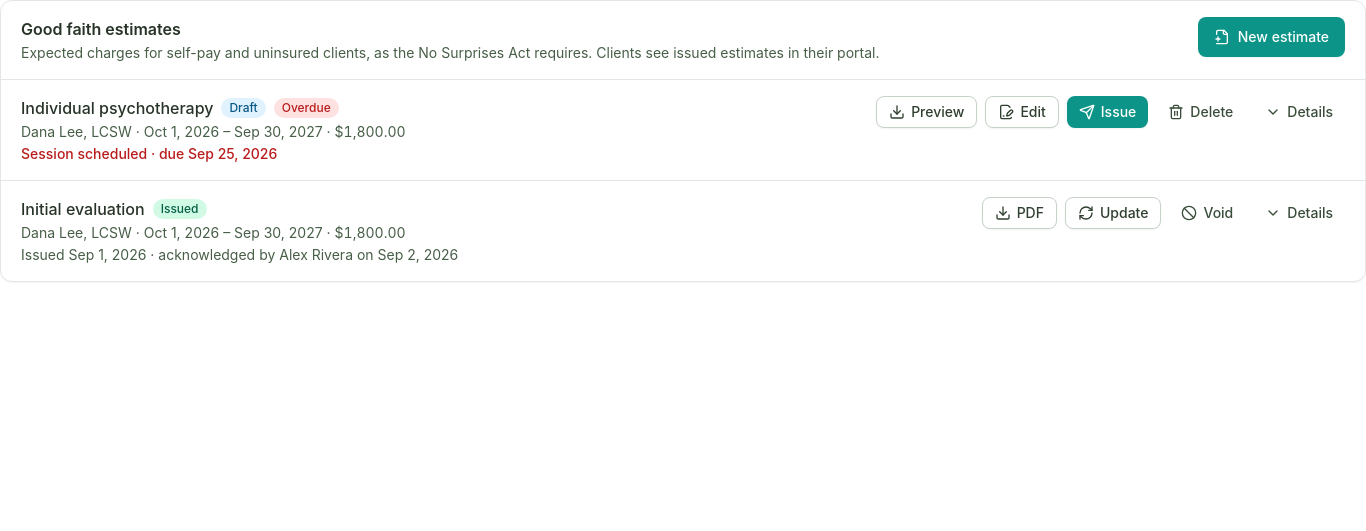
it: ClientEstimatesTab › lists drafts with their due dates and issued estimates with acknowledgments
The image size is (1366, 531).
Check: the text "Draft" is shown, box x1=221 y1=98 x2=266 y2=118
Check: the text "Overdue" is shown, box x1=274 y1=98 x2=339 y2=118
Click the button "Details" in the row of "Overdue".
click(1299, 112)  # box x1=1253 y1=96 x2=1345 y2=128
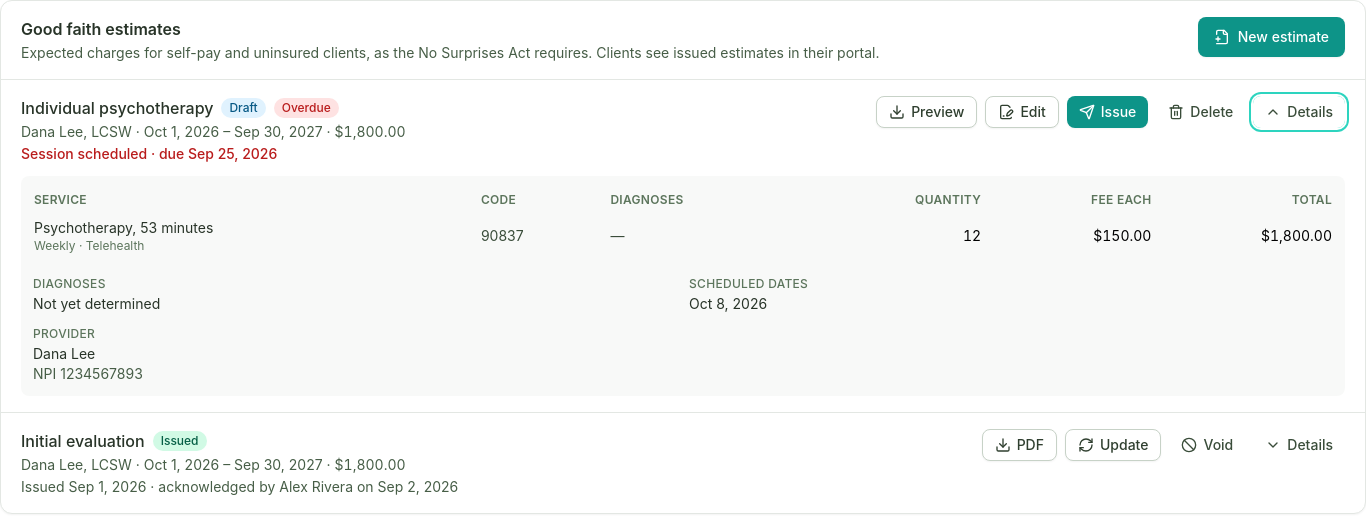
Check: the table named "Estimated services" shows "90837", box x1=481 y1=227 x2=524 y2=244
Check: the text "NPI 1234567893" is shown, box x1=33 y1=365 x2=143 y2=382
